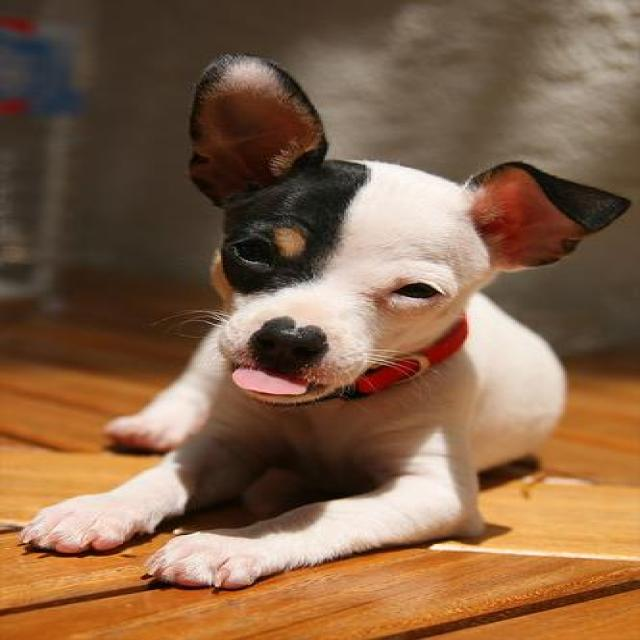toy_terrier: (14, 49, 636, 591)
